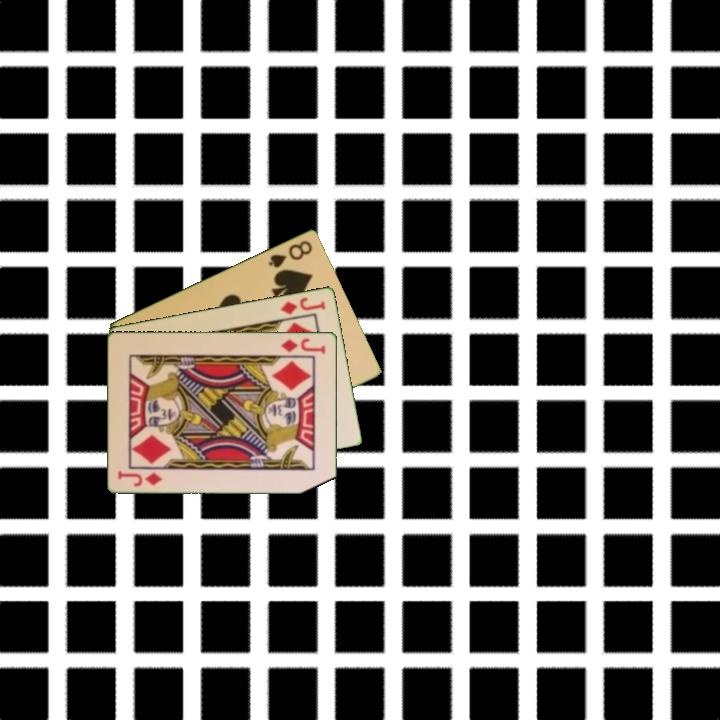8s: (265, 236, 315, 270)
Jd: (277, 293, 329, 317), (114, 467, 165, 489), (278, 335, 329, 356)
